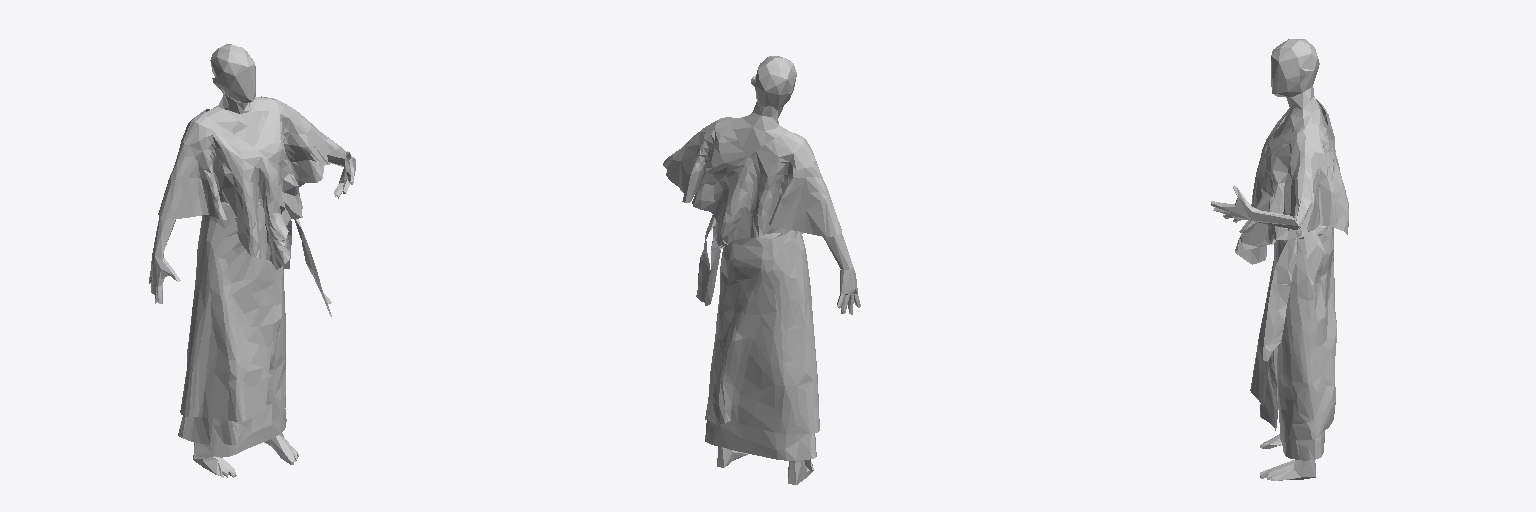
Rendered from personaB3.obj.
3 renders of one model, left to right at view 1: azimuth 30°, elevation 25°; view 2: azimuth 150°, elevation 25°; view 3: azimuth 270°, elevation 25°, orthographic.
Parts seen in each view (by area): view 1: TrajeTipico, Maniqui; view 2: TrajeTipico, Maniqui; view 3: TrajeTipico, Maniqui.
Boxes of the visible parts, <box> form: TrajeTipico: <box>158,96,340,458</box>; Maniqui: <box>149,44,355,477</box>; TrajeTipico: <box>663,117,841,471</box>; Maniqui: <box>717,56,860,484</box>; TrajeTipico: <box>1235,99,1348,460</box>; Maniqui: <box>1211,39,1326,480</box>.
Bounding box in the file's own units: 87.26 × 182 × 55.17.